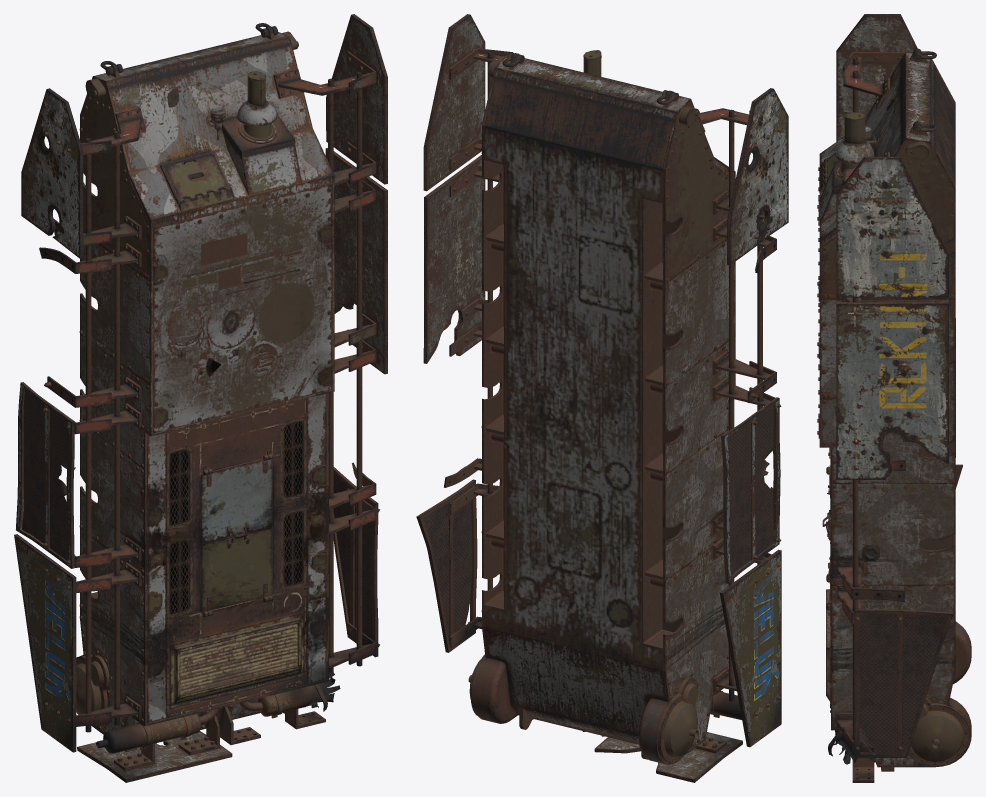
The model's file is Hull_01.glb.
The picture shows the model from 3 angles, left to right: view 1: azimuth 30°, elevation 25°; view 2: azimuth 150°, elevation 25°; view 3: azimuth 270°, elevation 25°; orthographic projection. The views are drawn at different scales.
Visible parts, largest first — view 1: set_0_group_0, set_0_group_1; view 2: set_0_group_0, set_0_group_1; view 3: set_0_group_0, set_0_group_1, set_0_group_2.
Part boxes in pixels (bbox=[...]): set_0_group_0: bbox=[14, 14, 387, 782]; set_0_group_1: bbox=[22, 389, 371, 638]; set_0_group_0: bbox=[416, 14, 788, 782]; set_0_group_1: bbox=[422, 406, 773, 640]; set_0_group_0: bbox=[817, 14, 971, 782]; set_0_group_1: bbox=[859, 614, 947, 755]; set_0_group_2: bbox=[862, 98, 894, 561].
Bounding box in the file's own units: 3.14 × 6.39 × 1.36.
3 materials, 3 textured.
